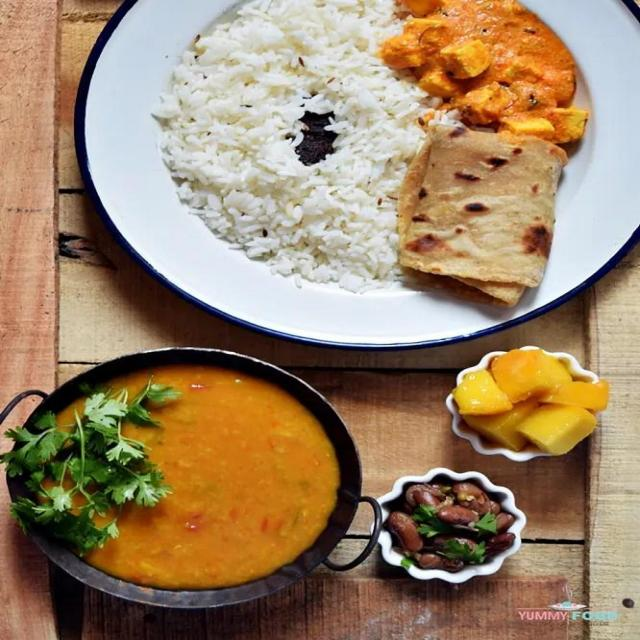ShahiPaneer: (374, 3, 576, 132)
dal: (47, 373, 329, 583)
rice: (155, 6, 426, 289)
roti: (404, 121, 566, 313)
